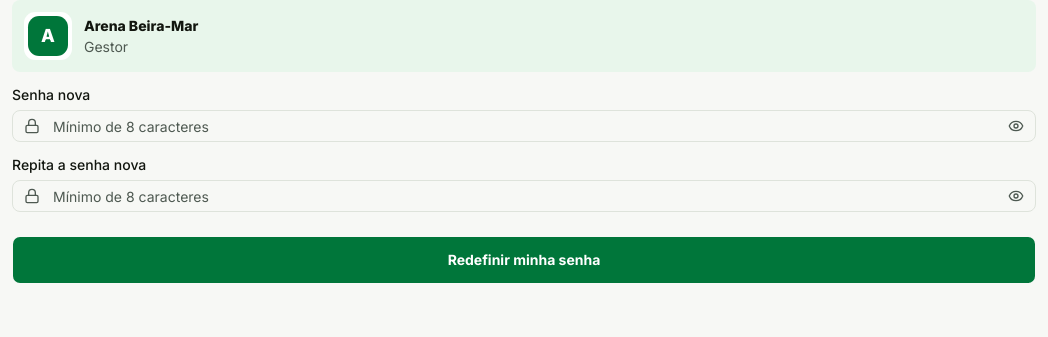
Test case: RedefinirSenhaForm (SPEC-090/AC-025) › senha curta ou confirmação diferente não sai para a rede
Type "1234567" into the password field labelled "Senha nova" at (524, 126), box [12,110,1036,142]
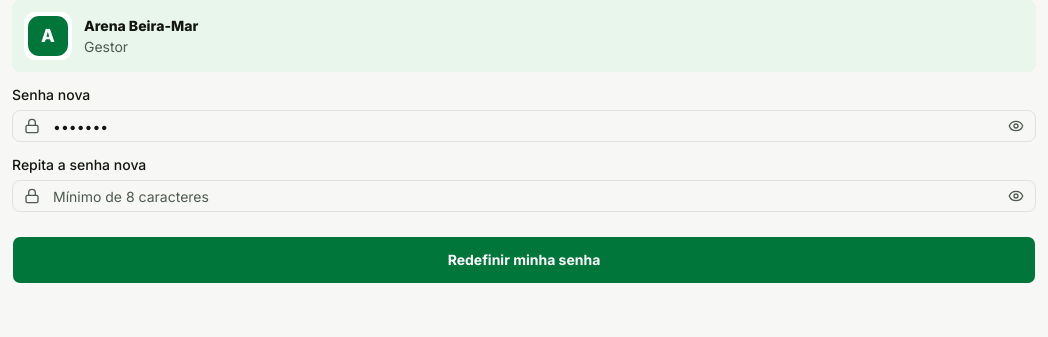
Type "1234567" into the password field labelled "Repita a senha nova" at (524, 196), box [12,180,1036,212]
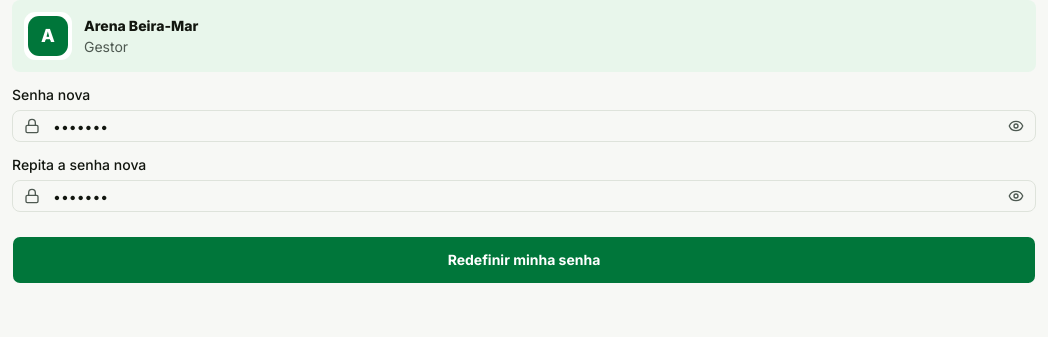
Click the button "Redefinir minha senha" at (524, 260), box [12,236,1036,284]
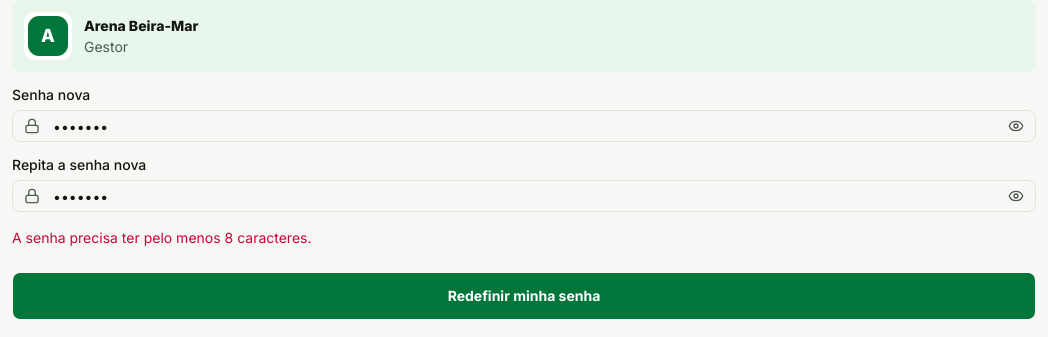
Expected: the message reads "A senha precisa ter pelo menos 8 caracteres.", [12,229,312,246]
Type "senha-nova-123" into the password field labelled "Senha nova" at (524, 126), box [12,110,1036,142]
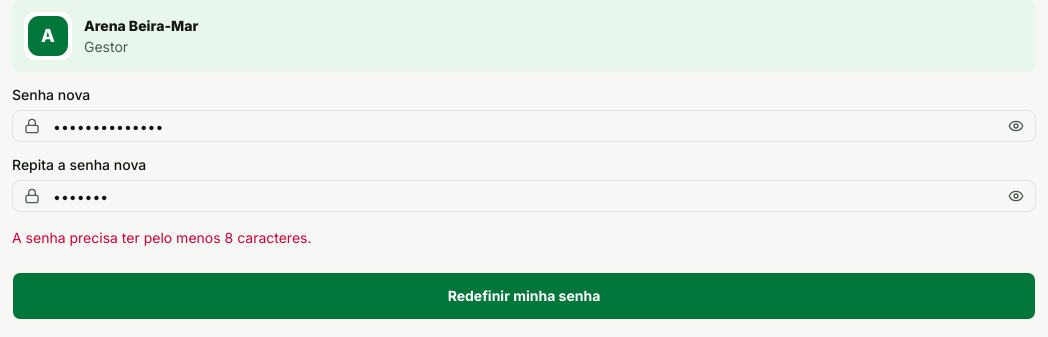
Type "senha-nova-124" into the password field labelled "Repita a senha nova" at (524, 196), box [12,180,1036,212]
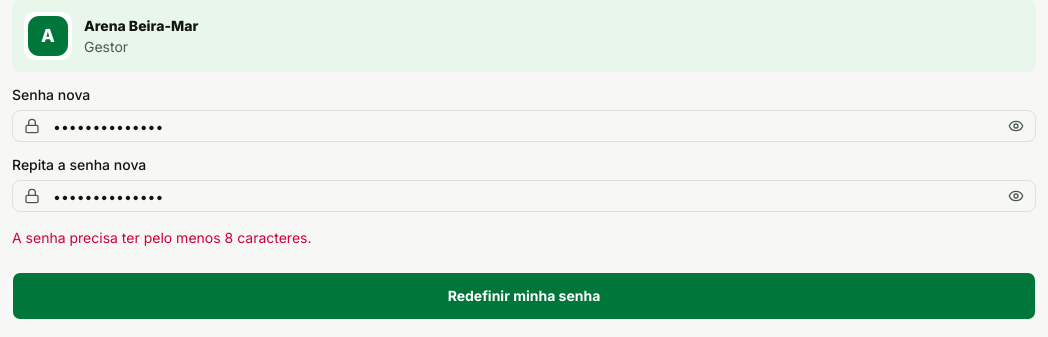
Click the button "Redefinir minha senha" at (524, 296), box [12,272,1036,320]
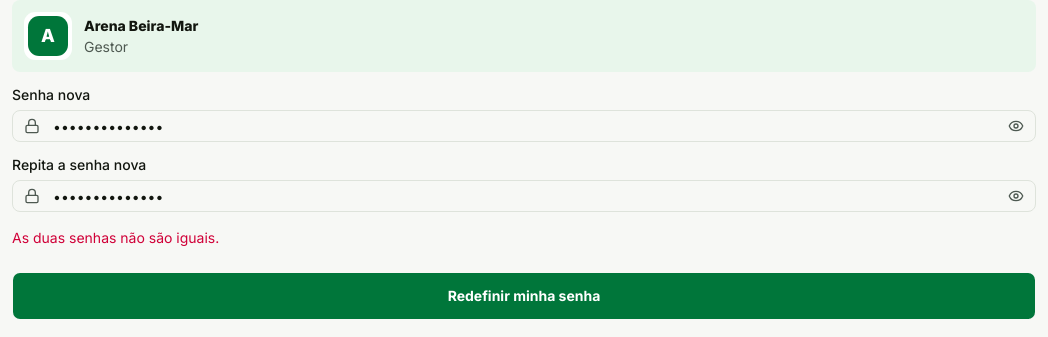
Expected: the message reads "As duas senhas não são iguais.", [12,229,219,246]
